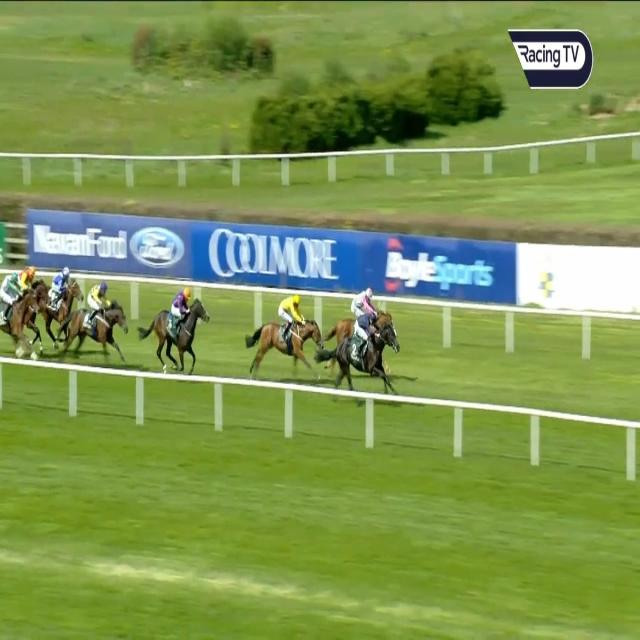horses-racing: (322, 314, 399, 389), (145, 288, 212, 372), (256, 296, 324, 378), (62, 281, 125, 360), (1, 271, 38, 364), (337, 291, 396, 338), (42, 268, 83, 331), (20, 266, 47, 327)
